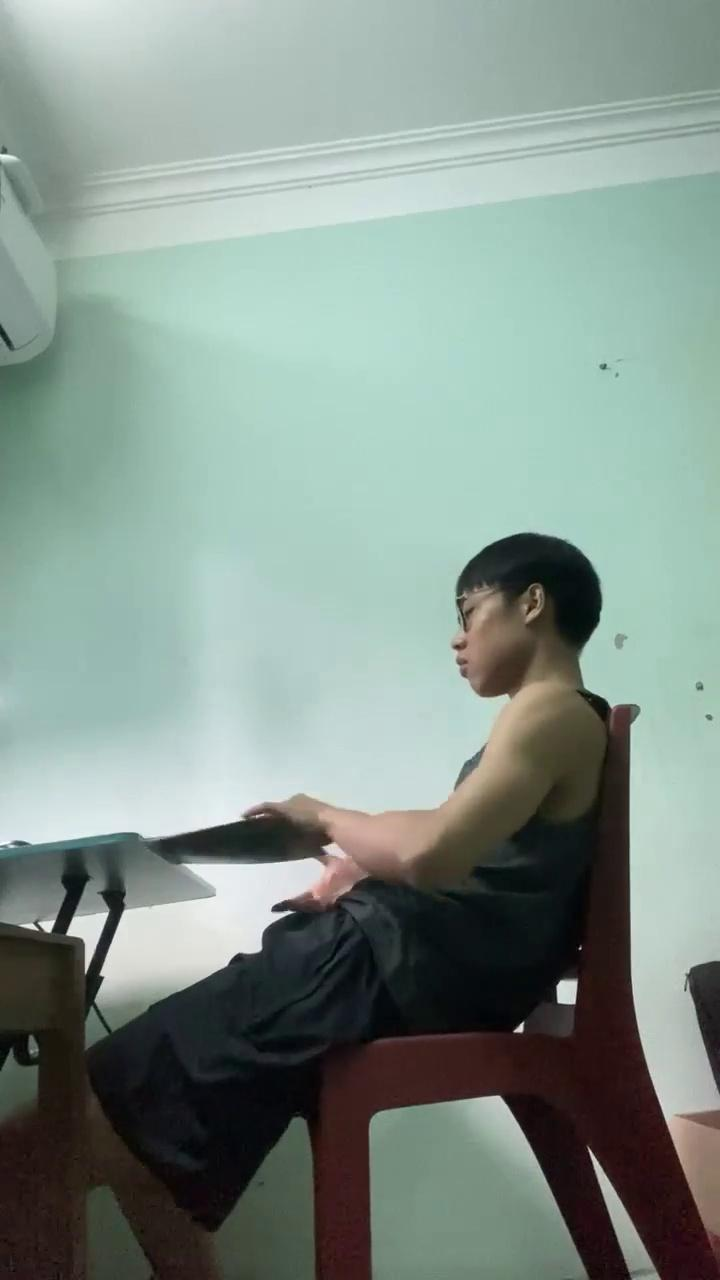BadPosture: (26, 537, 631, 1266), (268, 532, 609, 1033)
